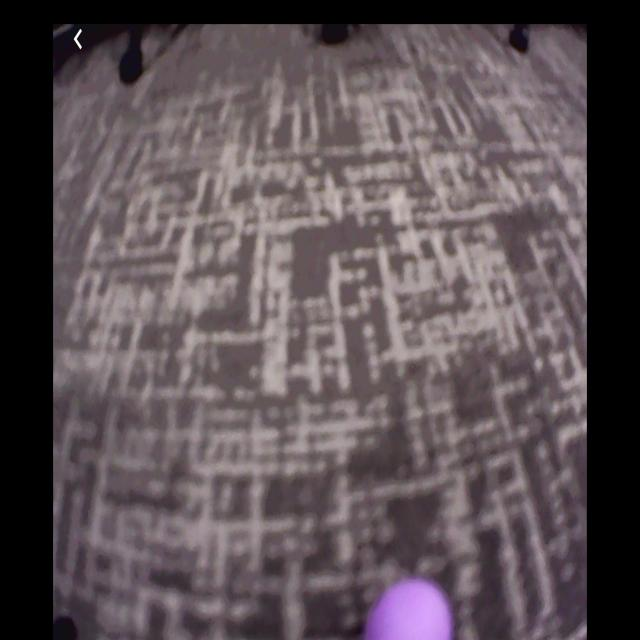ball: (366, 581, 457, 638)
